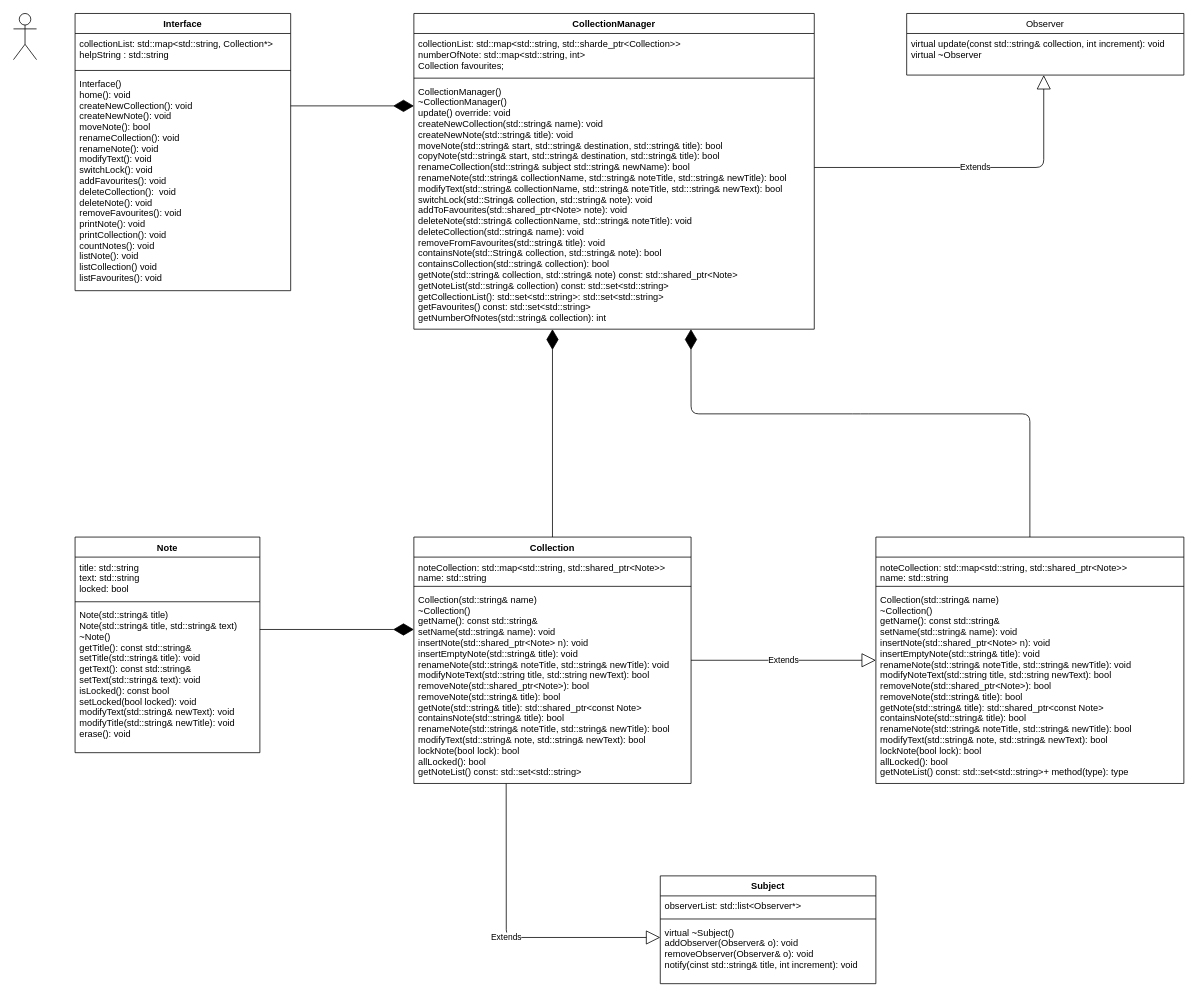
Image size: 1197x999. Some labels were removed from this diagram. The box of each missing label's shape, as (x1, y1, x2, y2) in pixels:
Actor: (13, 13, 37, 60)
FavouriteCollection: (875, 536, 1184, 783)
